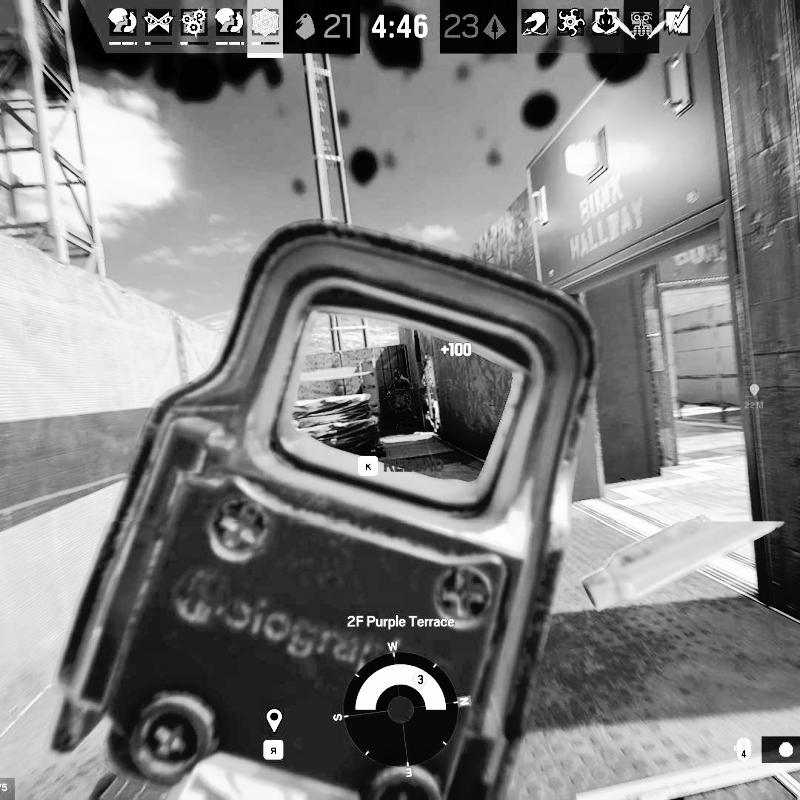Character: (388, 368, 420, 428)
Head: (394, 368, 401, 381)
